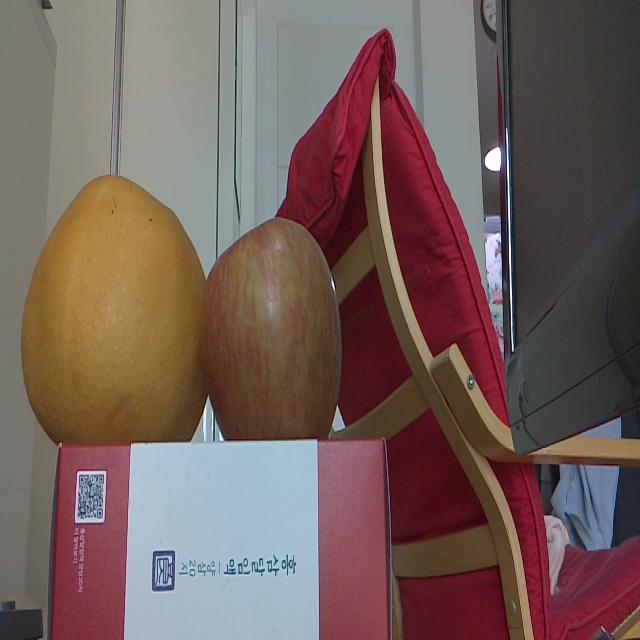apple: (202, 212, 344, 442)
pear: (18, 174, 210, 446)
